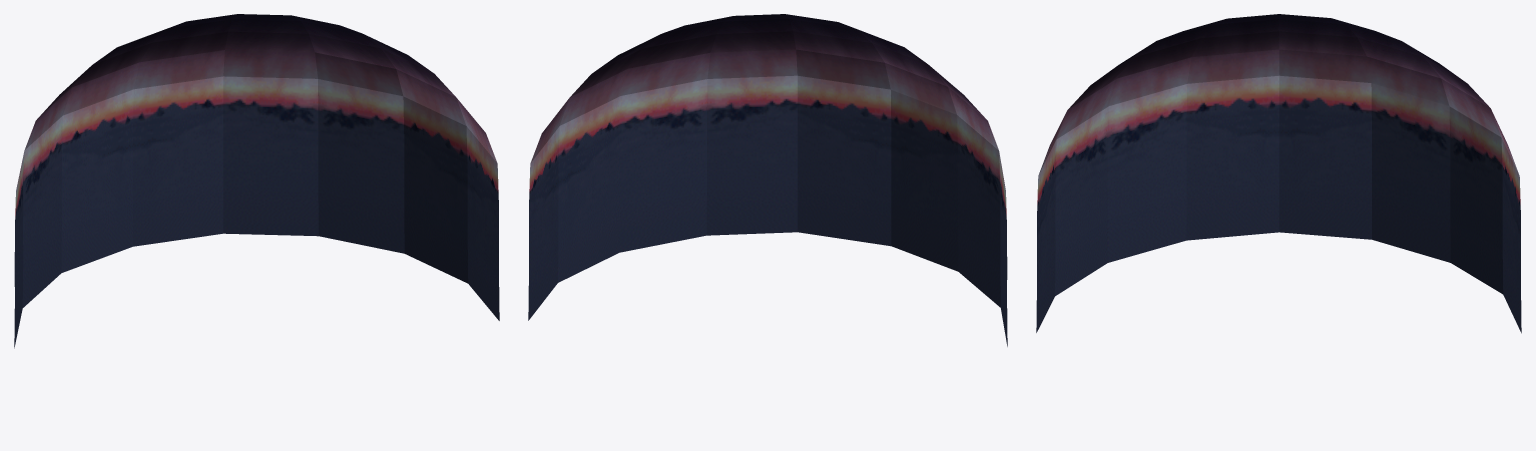
The model's file is Track_13_sky.glb.
3 views of the same model, side by side, from view 1: azimuth 30°, elevation 25°; view 2: azimuth 150°, elevation 25°; view 3: azimuth 270°, elevation 25° (orthographic).
Parts seen in each view (by area): view 1: Mesh_0; view 2: Mesh_0; view 3: Mesh_0.
Boxes of the visible parts, x1,y1,x2,y2 form: Mesh_0: (14, 14, 499, 348); Mesh_0: (528, 14, 1007, 346); Mesh_0: (1036, 14, 1521, 333).
Bounding box in the file's own units: 366 × 243 × 366.
Materials: 1 (1 with a texture image).
